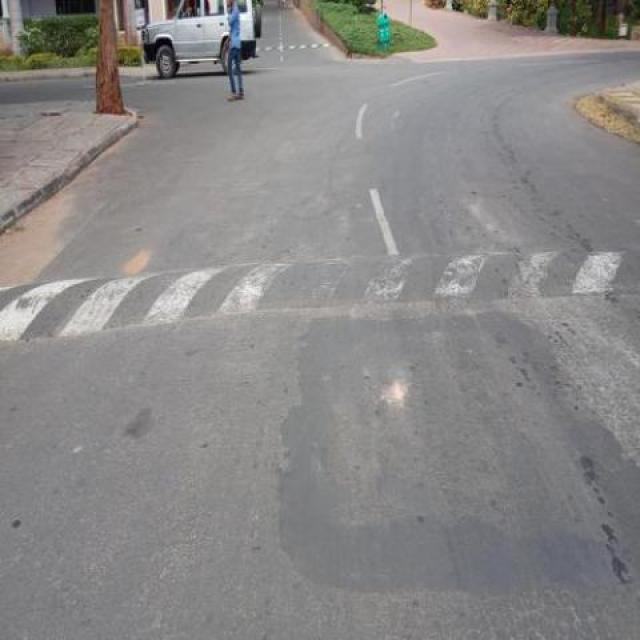Speed Bump: (0, 248, 639, 340)
